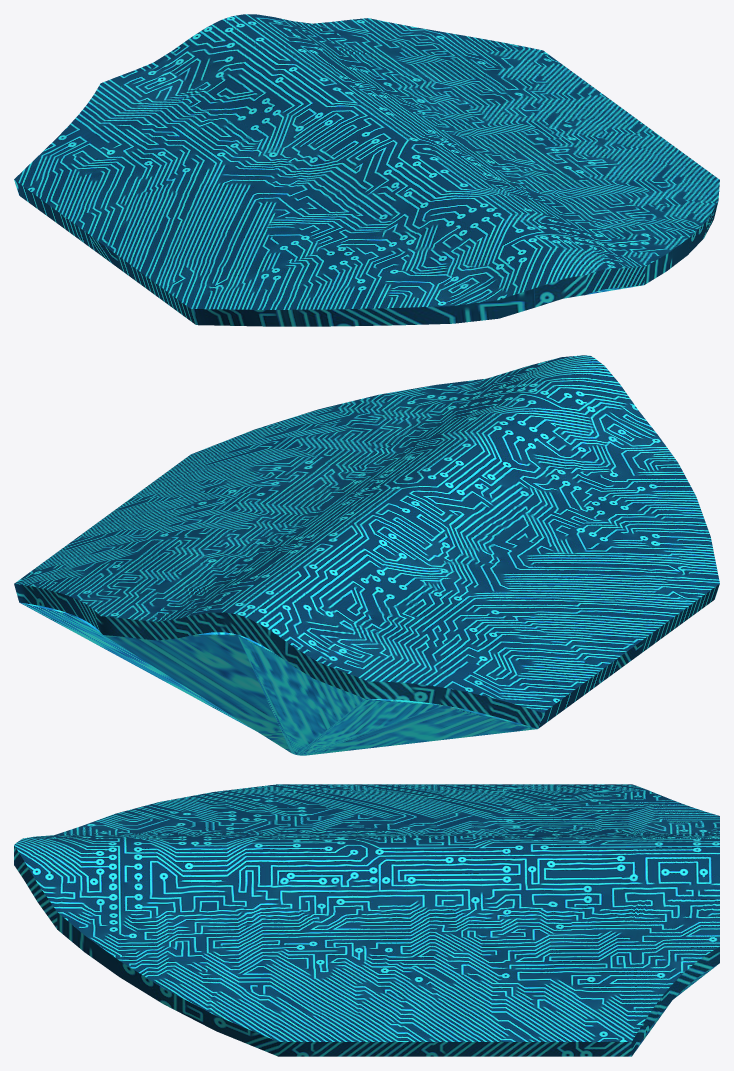
Rendered from ShieldProjection.FBX.
3 renders of one model, top to bottom at view 1: azimuth 30°, elevation 25°; view 2: azimuth 150°, elevation 25°; view 3: azimuth 270°, elevation 25°, orthographic.
Visible parts, largest first — view 1: Line002; view 2: Line002, Cone001; view 3: Line002.
Boxes of the visible parts, x1=… form: Line002: x1=14, y1=14, x2=719, y2=326; Line002: x1=14, y1=355, x2=719, y2=728; Cone001: x1=20, y1=602, x2=537, y2=755; Line002: x1=14, y1=784, x2=719, y2=1056.
Bounding box in the file's own units: 121 × 140 × 39.88.
2 materials, 2 textured.
